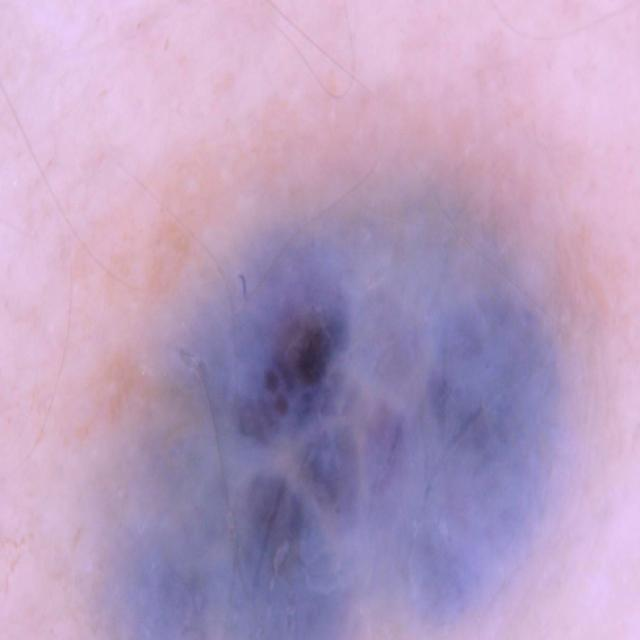Vascular Lesions: (68, 165, 586, 640)
